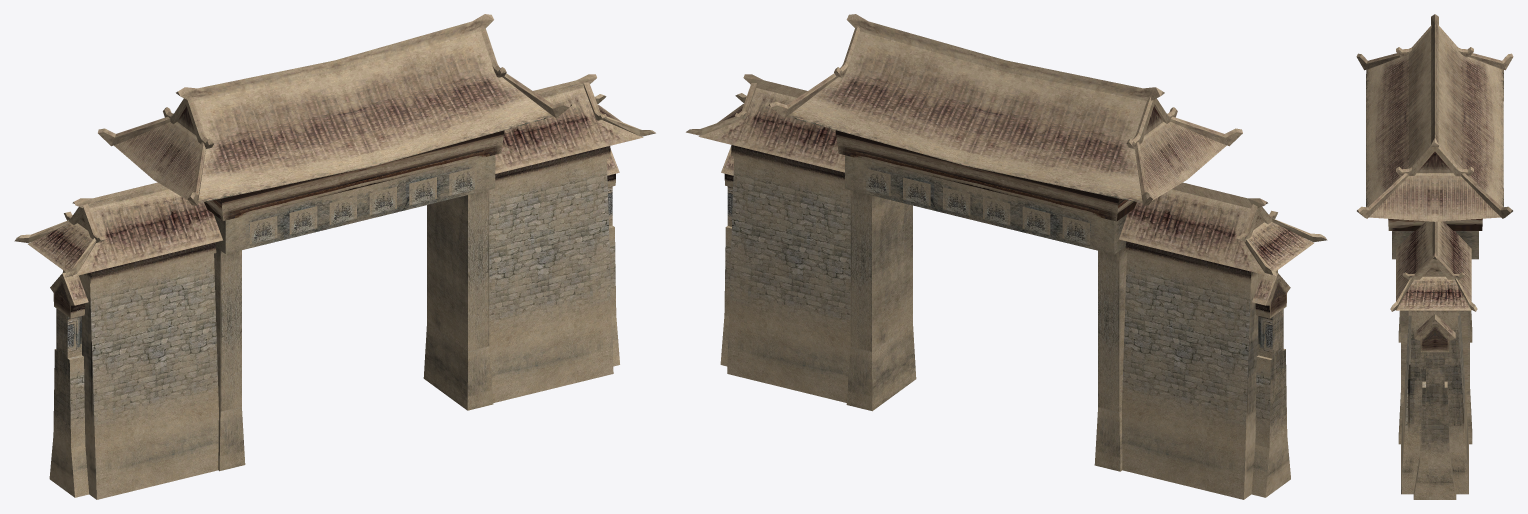
Rendered from desert-middledam-01_lod_01.glb.
The picture shows the model from 3 angles, left to right: view 1: azimuth 30°, elevation 25°; view 2: azimuth 150°, elevation 25°; view 3: azimuth 270°, elevation 25°; orthographic projection. The views are drawn at different scales.
Parts seen in each view (by area): view 1: desert-middledam-02, desert-middledam-01; view 2: desert-middledam-02, desert-middledam-01; view 3: desert-middledam-01, desert-middledam-02.
Boxes of the visible parts, x1,y1,x2,y2 form: desert-middledam-02: [14, 74, 655, 499]; desert-middledam-01: [98, 14, 571, 471]; desert-middledam-02: [686, 74, 1327, 499]; desert-middledam-01: [768, 14, 1242, 471]; desert-middledam-01: [1356, 14, 1513, 444]; desert-middledam-02: [1390, 221, 1477, 499].
Size of the model in its own units: 22.82 by 13.67 by 6.24.
2 materials, 2 textured.
